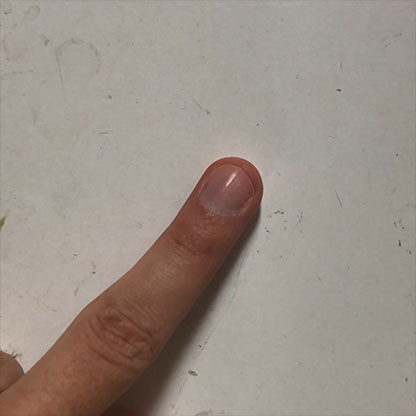fingertip: (189, 150, 274, 240)
